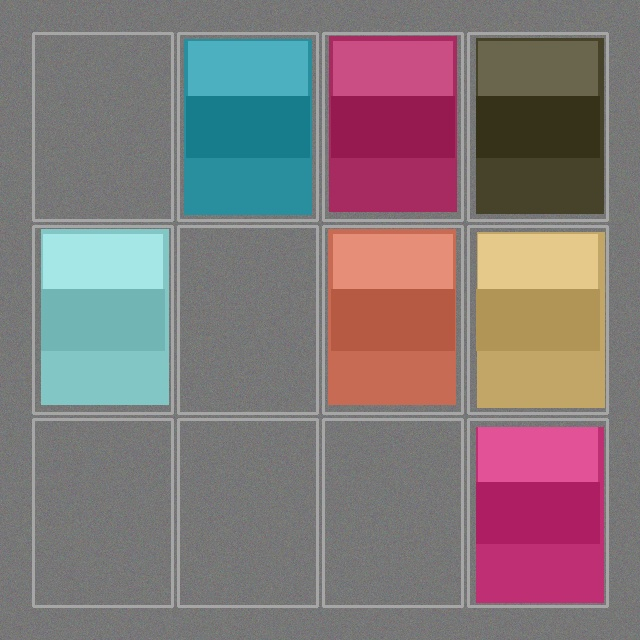space-empty: (35, 35, 170, 218), (180, 228, 315, 411), (35, 421, 170, 604), (180, 421, 315, 604), (325, 421, 460, 604)
space-occupied: (180, 35, 315, 218), (325, 35, 460, 218), (470, 35, 605, 218), (35, 228, 170, 411), (325, 228, 460, 411), (470, 228, 605, 411), (470, 421, 605, 604)
